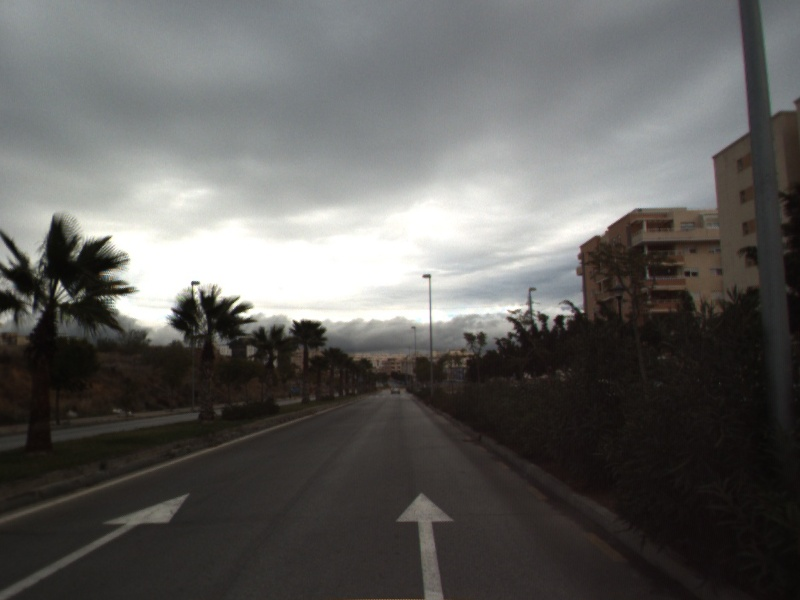STRAIGHT: (1, 490, 192, 600), (393, 490, 457, 600)
